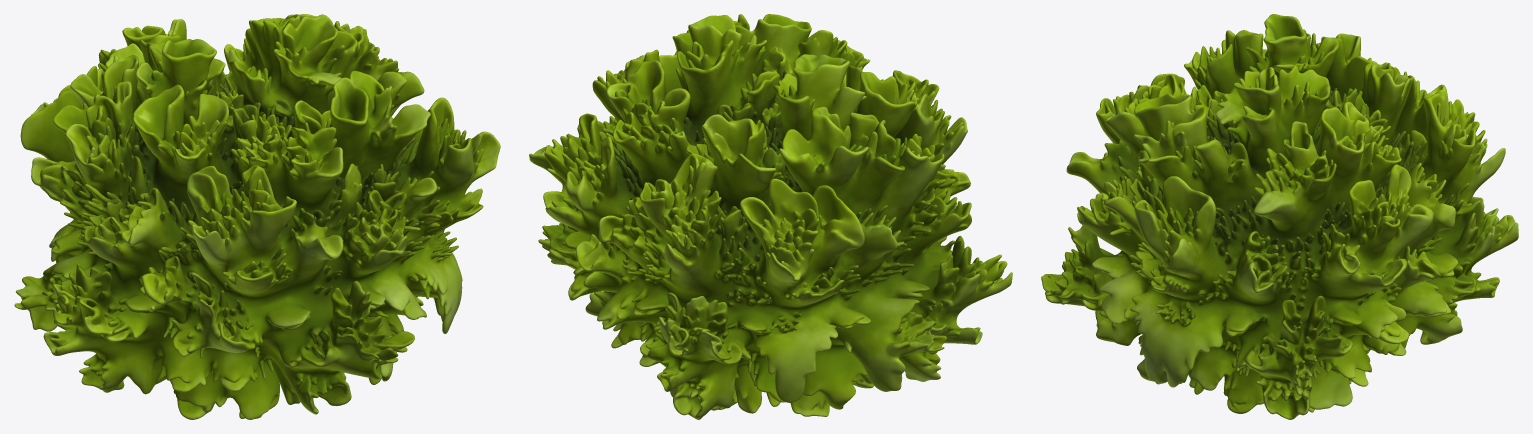
The model's file is limambo_maturity.glb.
3 views of the same model, side by side, from view 1: azimuth 30°, elevation 25°; view 2: azimuth 150°, elevation 25°; view 3: azimuth 270°, elevation 25° (orthographic). The views are drawn at different scales.
Parts seen in each view (by area): view 1: tripo_node_5505a5bd-7d05-4765-9691-7e158fd36df1; view 2: tripo_node_5505a5bd-7d05-4765-9691-7e158fd36df1; view 3: tripo_node_5505a5bd-7d05-4765-9691-7e158fd36df1.
Part boxes in pixels (left/top/right/bottom): tripo_node_5505a5bd-7d05-4765-9691-7e158fd36df1: left=14, top=14, right=500, bottom=419; tripo_node_5505a5bd-7d05-4765-9691-7e158fd36df1: left=529, top=14, right=1012, bottom=419; tripo_node_5505a5bd-7d05-4765-9691-7e158fd36df1: left=1041, top=14, right=1518, bottom=419.
Bounding box in the file's own units: 0.9979 × 0.765 × 1.
Materials: 1 (1 with a texture image).
